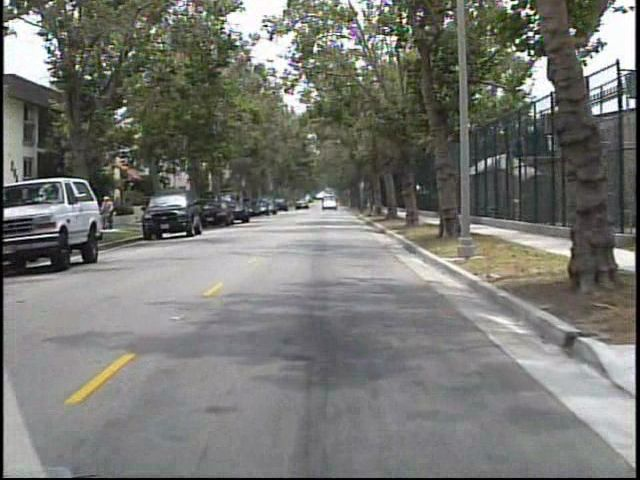person: (99, 192, 119, 234)
